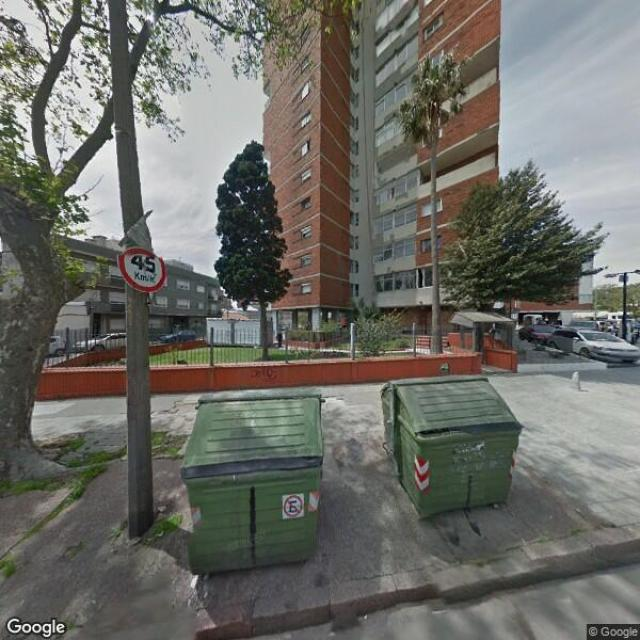garbage container: (172, 382, 335, 579), (372, 367, 534, 533)
